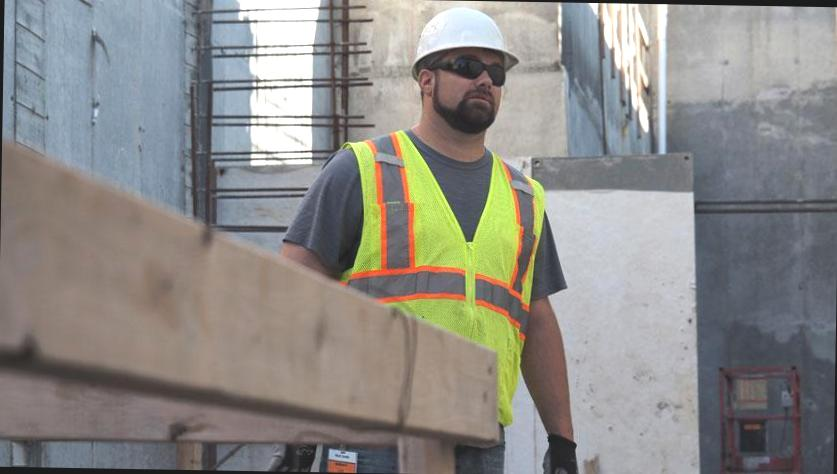helmet: (405, 7, 524, 88)
person: (311, 0, 576, 456)
